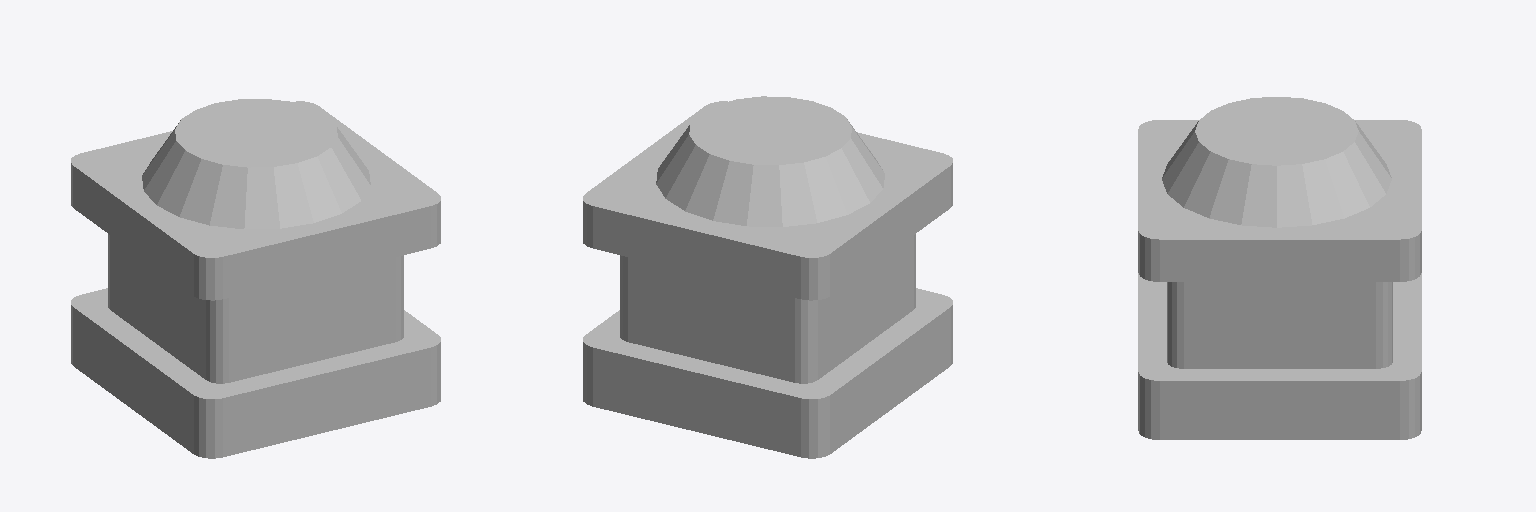
The model's file is 第三方系统.obj.
The picture shows the model from 3 angles: view 1: azimuth 30°, elevation 25°; view 2: azimuth 150°, elevation 25°; view 3: azimuth 270°, elevation 25°; orthographic projection.
Parts seen in each view (by area): view 1: polySurface2; view 2: polySurface2; view 3: polySurface2.
Boxes of the visible parts, box(x1,y1,x2,y2) form: polySurface2: box(71, 99, 440, 458); polySurface2: box(583, 96, 952, 458); polySurface2: box(1138, 97, 1421, 439).
Size of the model in its own units: 71.2 by 68.95 by 71.2.